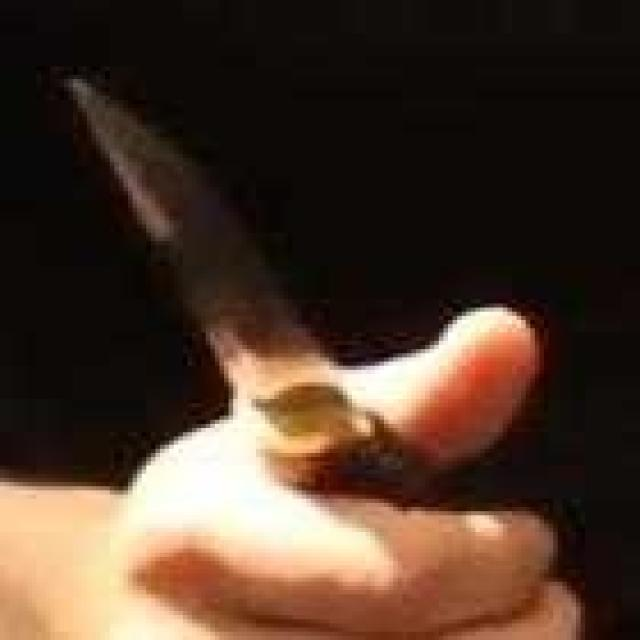Knife: (63, 74, 435, 508)
